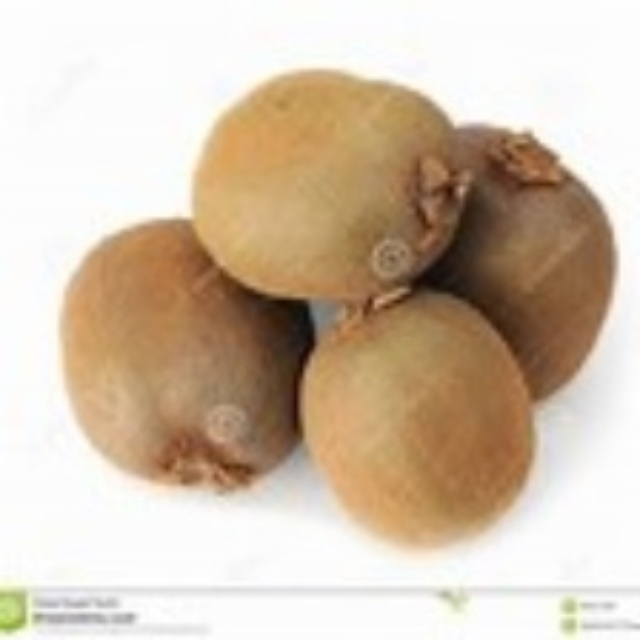kiwi: (58, 222, 338, 500), (290, 299, 544, 557), (187, 67, 451, 312), (405, 116, 626, 396)
